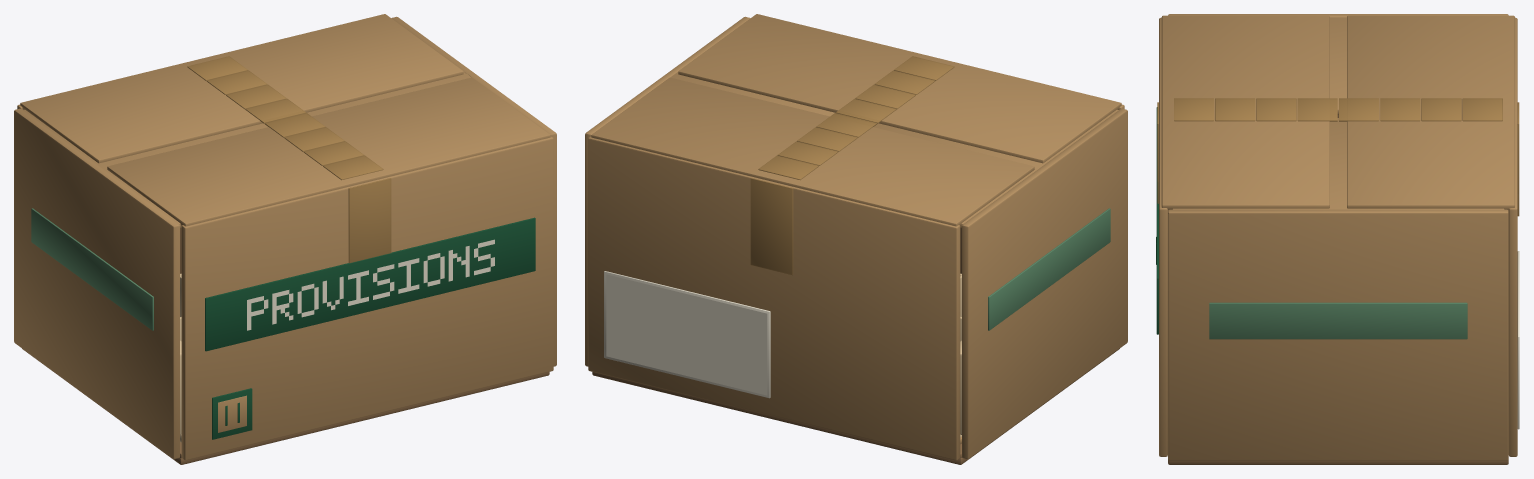
The model's file is delivery_bulk_provisions_carton.glb.
The picture shows the model from 3 angles, left to right: view 1: azimuth 30°, elevation 25°; view 2: azimuth 150°, elevation 25°; view 3: azimuth 270°, elevation 25°; orthographic projection. The views are drawn at different scales.
Visible parts, largest first — view 1: BOX_FRONT, BOX_LEFT, FLAP_TOP_FRONT, FLAP_TOP_BACK, LABEL_MAIN, TAPE_CENTER, CATEGORY_SIDE_BAND_LEFT, LABEL_CATEGORY_TEXT, TAPE_SIDE_FRONT, BOX_RIGHT, BOX_BASE, FLAP_TOP_LEFT (+3 smaller); view 2: BOX_BACK, BOX_LEFT, FLAP_TOP_BACK, FLAP_TOP_FRONT, LABEL_DYNAMIC, TAPE_CENTER, CATEGORY_SIDE_BAND_LEFT, TAPE_SIDE_BACK, BOX_RIGHT, BOX_BASE, SHIPPING_LABEL_BACKING, FLAP_TOP_LEFT (+1 smaller); view 3: BOX_RIGHT, FLAP_TOP_FRONT, FLAP_TOP_BACK, CATEGORY_SIDE_BAND_RIGHT, TAPE_CENTER, BOX_BACK, BOX_FRONT, FLAP_TOP_RIGHT, BOX_BASE, FLAP_TOP_LEFT, BOX_LEFT, LABEL_MAIN (+1 smaller).
Boxes of the visible parts, x1=… form: BOX_FRONT: x1=181, y1=136, x2=553, y2=460; BOX_LEFT: x1=14, y1=108, x2=179, y2=459; FLAP_TOP_FRONT: x1=107, y1=77, x2=550, y2=226; FLAP_TOP_BACK: x1=20, y1=14, x2=463, y2=163; LABEL_MAIN: x1=205, y1=217, x2=535, y2=351; TAPE_CENTER: x1=187, y1=56, x2=383, y2=180; CATEGORY_SIDE_BAND_LEFT: x1=31, y1=208, x2=153, y2=330; LABEL_CATEGORY_TEXT: x1=247, y1=239, x2=494, y2=330; TAPE_SIDE_FRONT: x1=348, y1=178, x2=391, y2=263; BOX_RIGHT: x1=391, y1=16, x2=556, y2=366; BOX_BASE: x1=22, y1=348, x2=549, y2=464; FLAP_TOP_LEFT: x1=23, y1=109, x2=267, y2=228; BOX_BACK: x1=588, y1=136, x2=960, y2=460; BOX_LEFT: x1=962, y1=108, x2=1127, y2=459; FLAP_TOP_BACK: x1=591, y1=77, x2=1034, y2=226; FLAP_TOP_FRONT: x1=678, y1=14, x2=1121, y2=163; LABEL_DYNAMIC: x1=606, y1=274, x2=767, y2=395; TAPE_CENTER: x1=758, y1=56, x2=954, y2=180; CATEGORY_SIDE_BAND_LEFT: x1=988, y1=208, x2=1110, y2=330; TAPE_SIDE_BACK: x1=750, y1=178, x2=793, y2=275; BOX_RIGHT: x1=585, y1=16, x2=750, y2=366; BOX_BASE: x1=592, y1=348, x2=1119, y2=464; SHIPPING_LABEL_BACKING: x1=604, y1=271, x2=770, y2=398; FLAP_TOP_LEFT: x1=874, y1=109, x2=1118, y2=228; BOX_RIGHT: x1=1168, y1=209, x2=1508, y2=460; FLAP_TOP_FRONT: x1=1161, y1=15, x2=1329, y2=210; FLAP_TOP_BACK: x1=1347, y1=15, x2=1514, y2=209; CATEGORY_SIDE_BAND_RIGHT: x1=1209, y1=302, x2=1467, y2=339; TAPE_CENTER: x1=1174, y1=98, x2=1502, y2=121; BOX_BACK: x1=1508, y1=17, x2=1517, y2=456; BOX_FRONT: x1=1159, y1=17, x2=1167, y2=456; FLAP_TOP_RIGHT: x1=1172, y1=118, x2=1504, y2=209; BOX_BASE: x1=1168, y1=459, x2=1508, y2=464; FLAP_TOP_LEFT: x1=1330, y1=17, x2=1346, y2=114; BOX_LEFT: x1=1168, y1=14, x2=1508, y2=17; LABEL_MAIN: x1=1156, y1=107, x2=1158, y2=334.
Size of what is drawn, in the model's own units: 0.5042 by 0.3045 by 0.3852.
